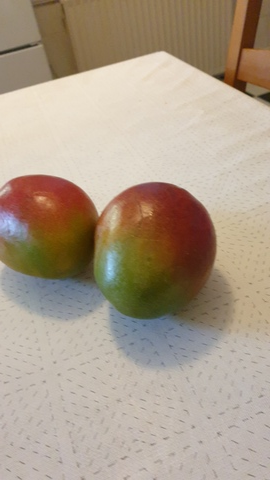Mango: (91, 182, 218, 320)
